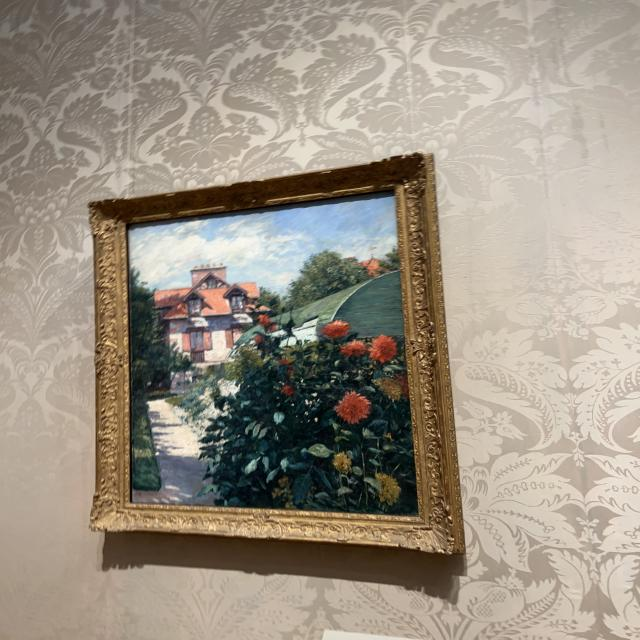summer: (131, 198, 416, 515)
